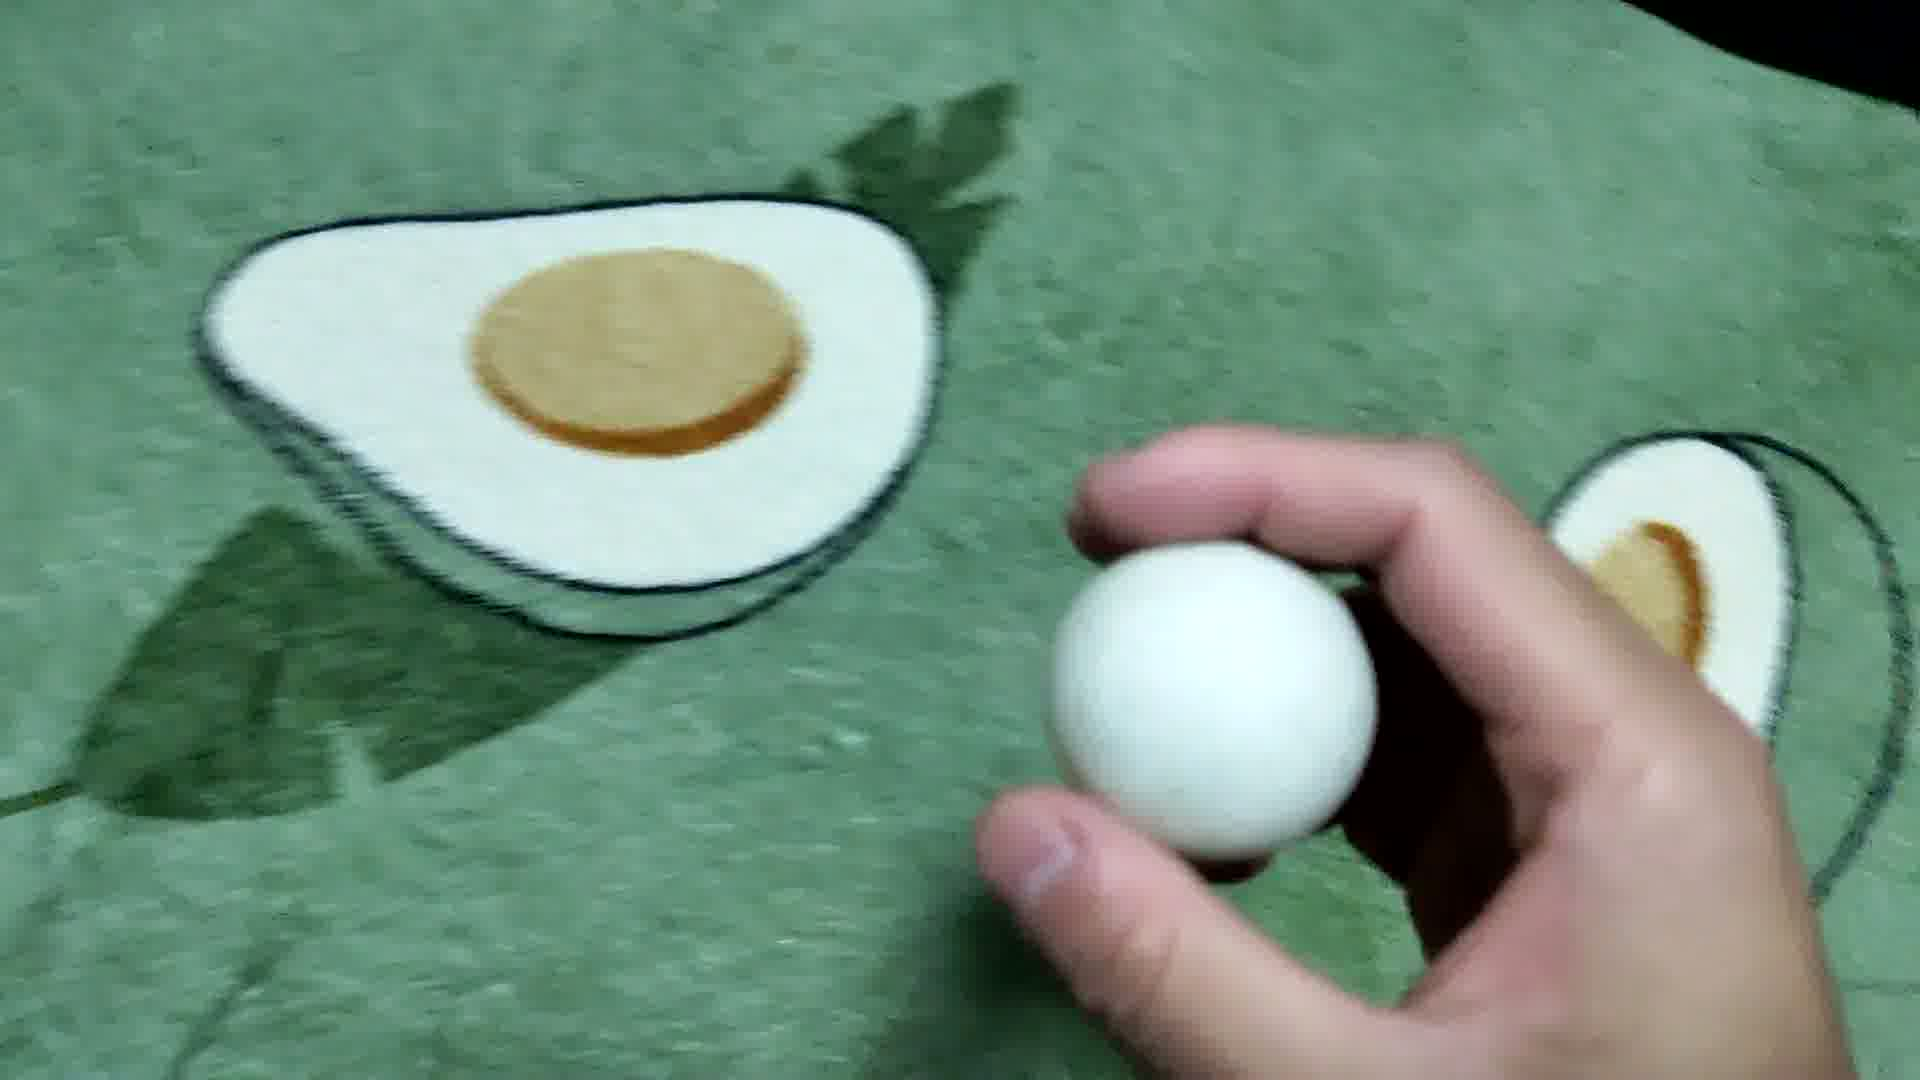Ball: (1051, 537, 1377, 861)
